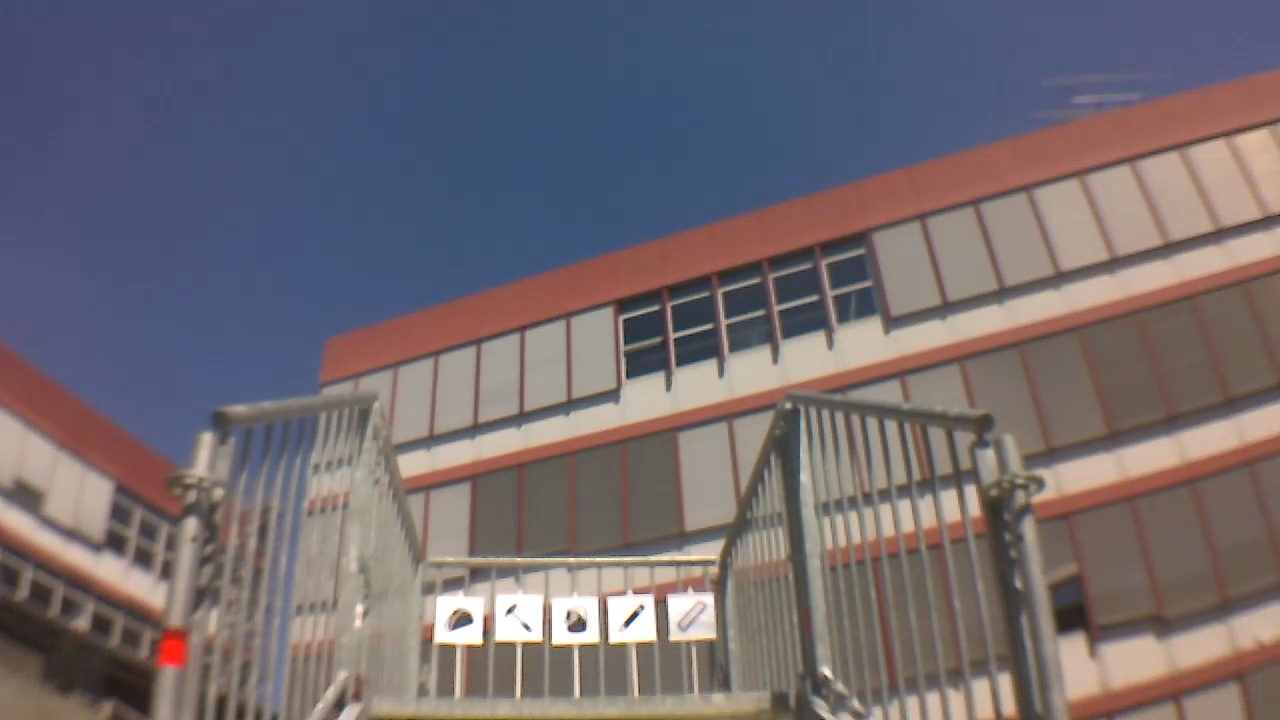bucket: (562, 605, 588, 636)
edge: (370, 694, 794, 713)
hammer: (496, 601, 538, 636)
pencil: (615, 600, 645, 629)
ruler: (677, 595, 708, 632)
taco: (444, 606, 476, 632)
